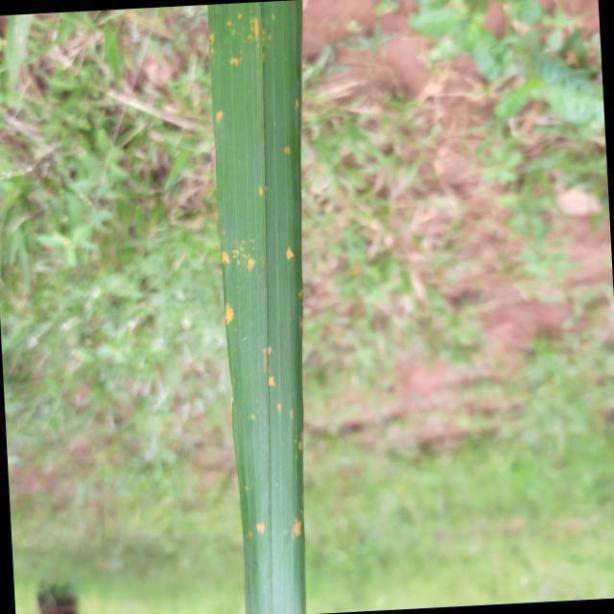Kalium: (211, 0, 304, 614)
